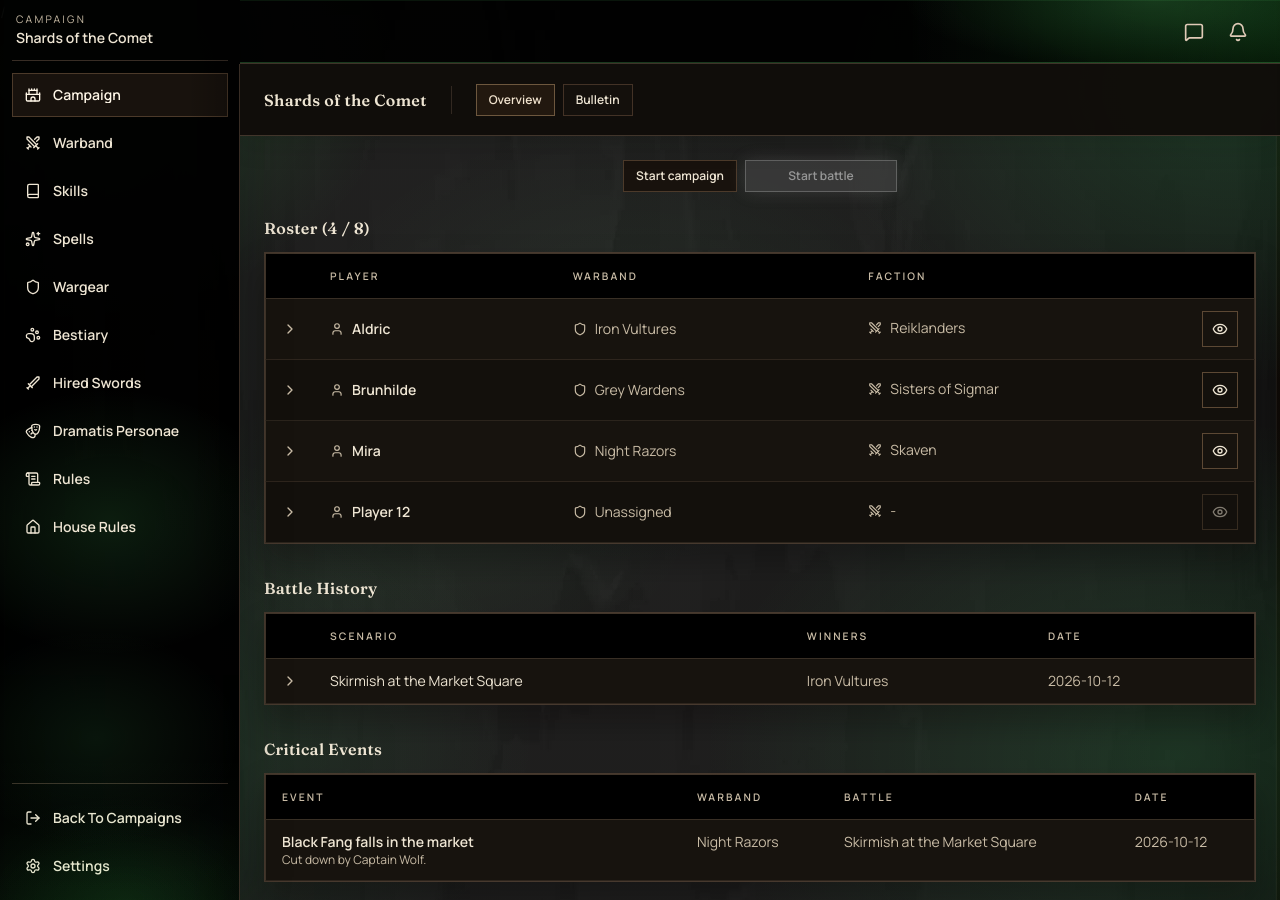
Start campaign › is offered to an admin, whose start the server accepts: Start battle appears with no second read of the campaign (BUG-13, decision 2)
Expected: the heading "Roster (4 / 8)" is shown, top-left (264, 218), bottom-right (370, 238)
Expected: the button "Aldric" is shown, top-left (330, 319), bottom-right (390, 339)
What coordinates should you click on to do the following:
click the button "Start campaign"
I would click on:
 (680, 176)
Its box is top-left (623, 160), bottom-right (737, 192).
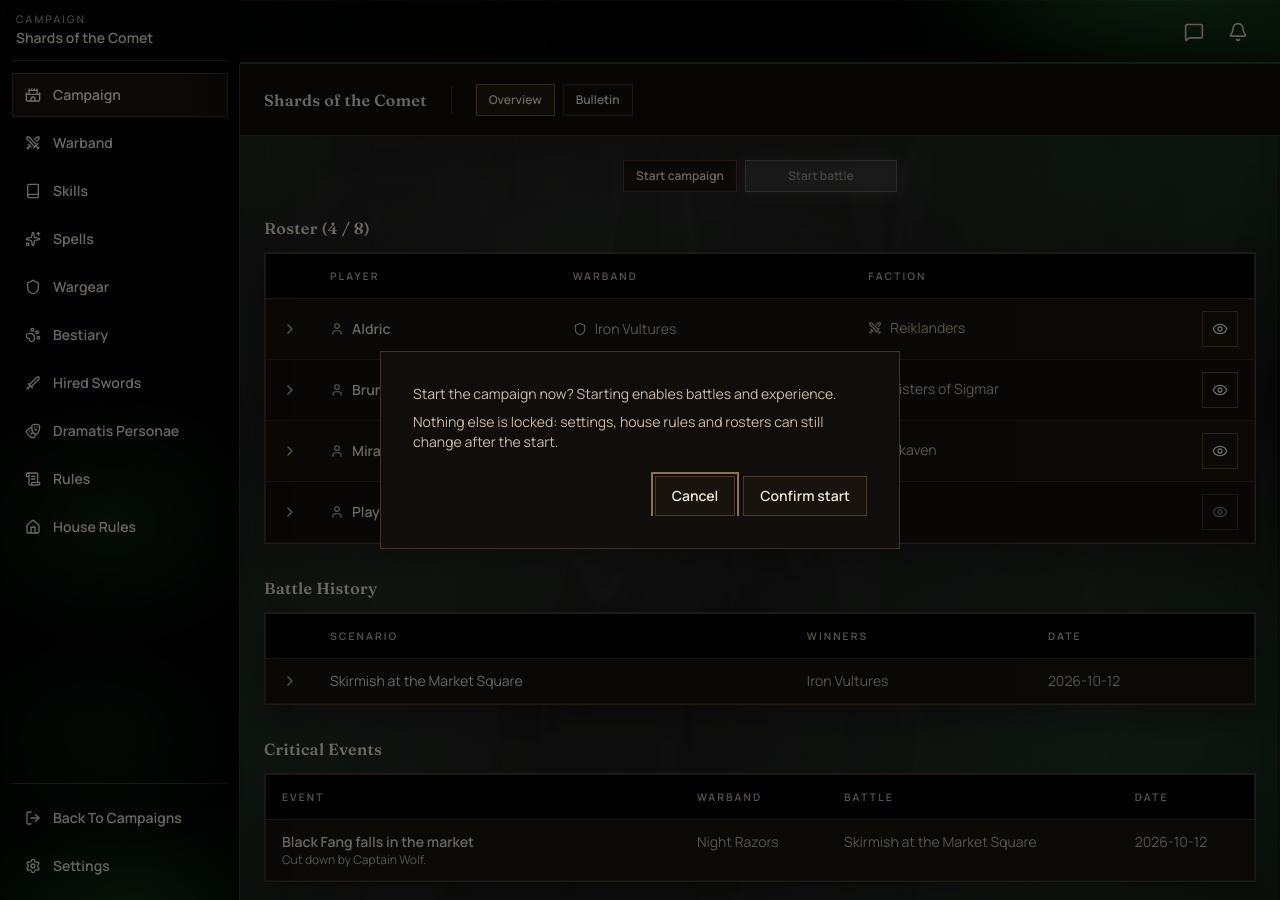
What coordinates should you click on to do the following:
click the button "Confirm start"
I would click on:
 (805, 496)
Its box is top-left (743, 476), bottom-right (867, 516).
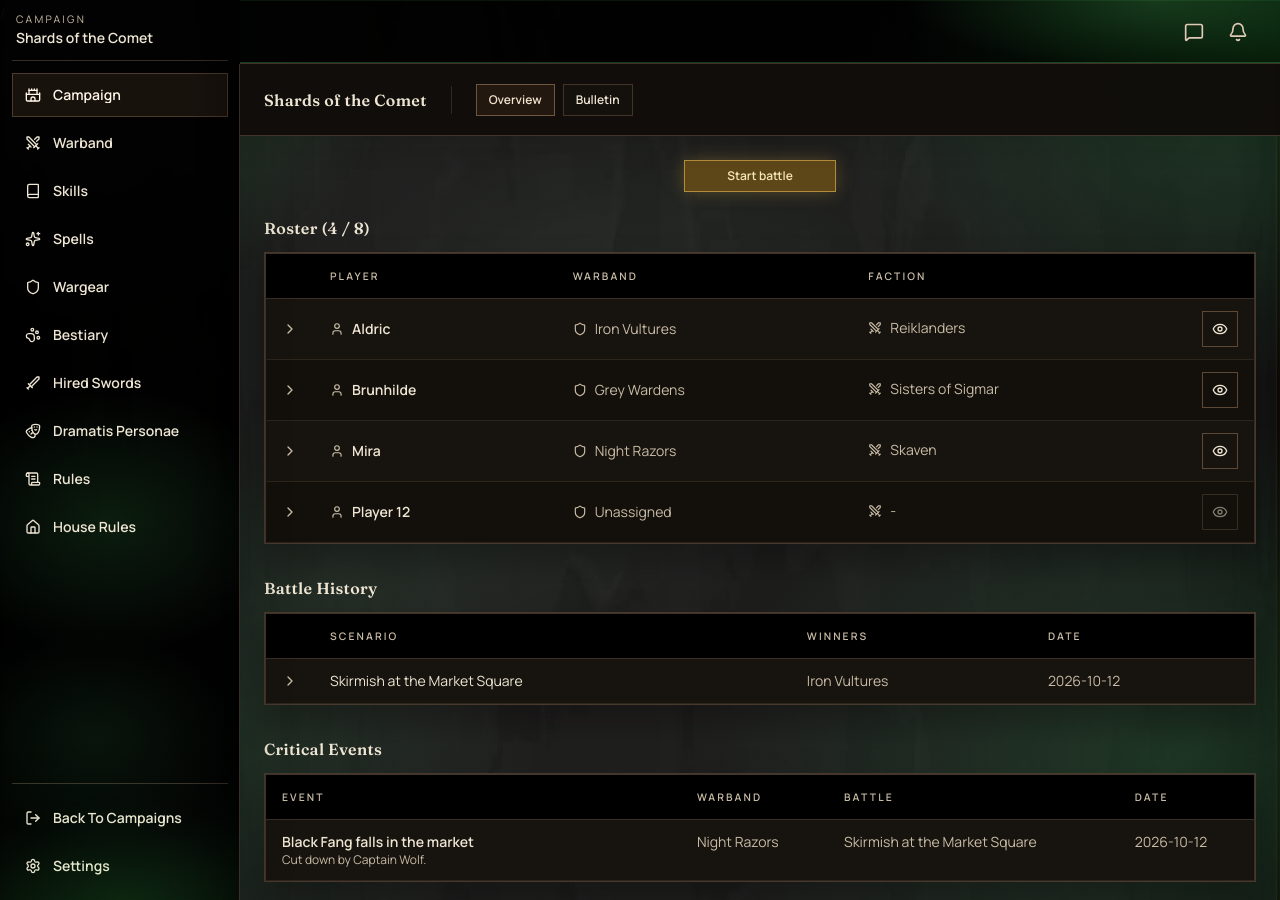
Expected: the button "Start battle" is shown, top-left (684, 160), bottom-right (836, 192)
Result: the button "Start campaign" is gone
Result: the dialog is gone
